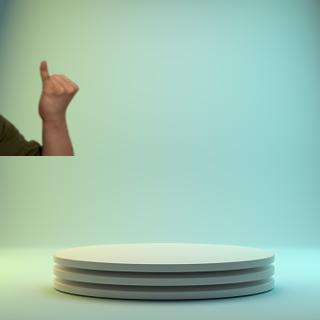FINE: (35, 58, 82, 127)
